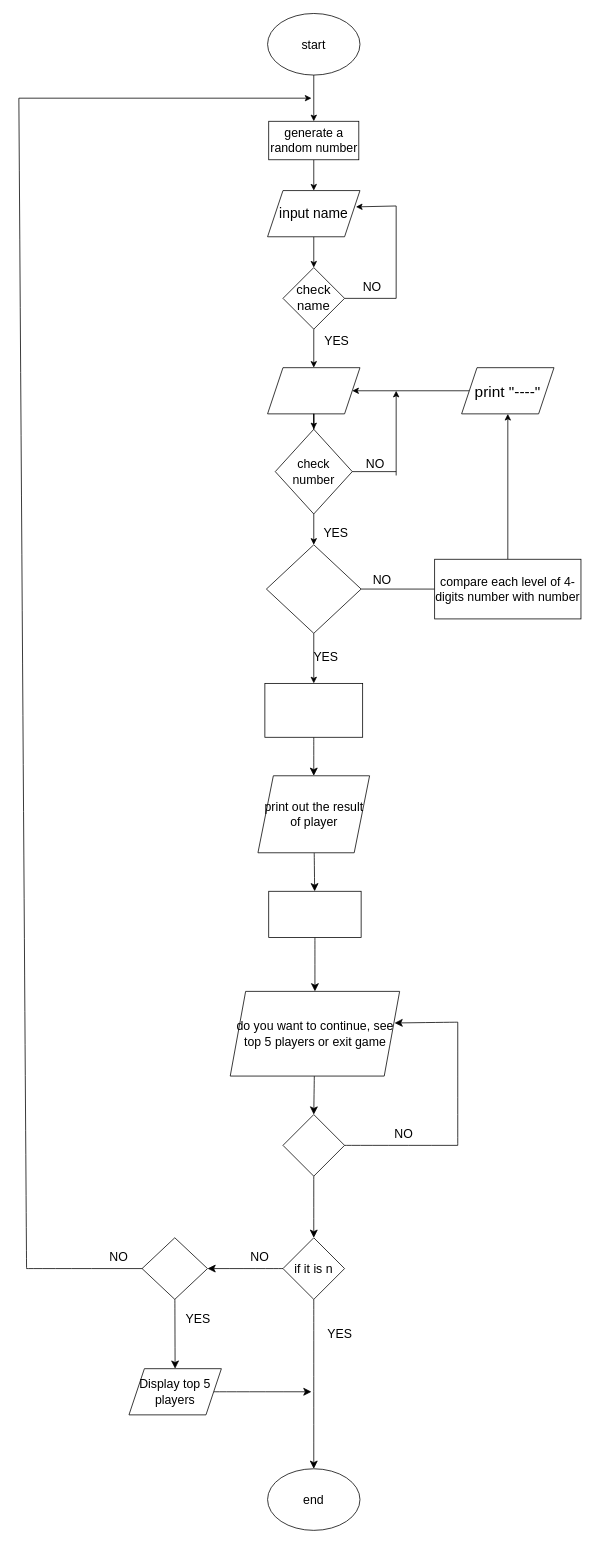
Image size: 594x1544. Some labels were removed from this diagram. The shapes that lost their labels are listed below. From the top down, each one's box as (x1, y1, x2, y2) in pixels, then its label:
(267, 367, 360, 414): input number
(266, 544, 361, 633): compare 2 number
(264, 683, 363, 737): calculate lucky ratio
(268, 891, 361, 937): write to file
(282, 1114, 345, 1176): check option
(141, 1237, 208, 1299): else if it is d
